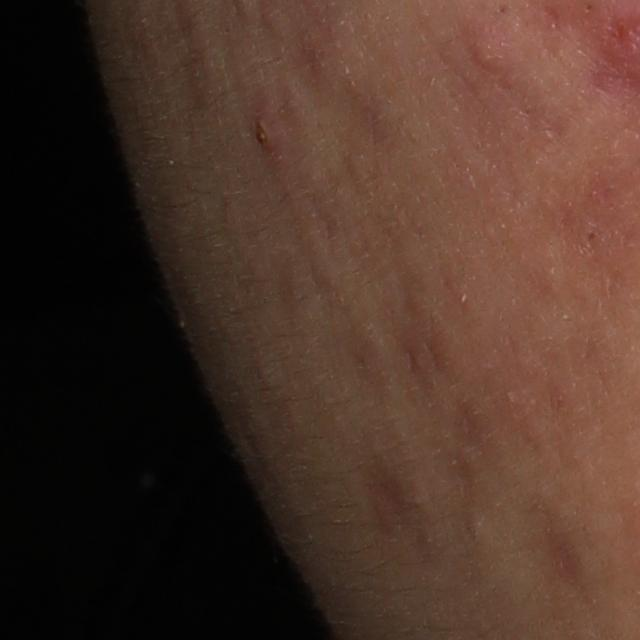comedo: (459, 510, 490, 547), (583, 229, 598, 245)
papule: (462, 26, 514, 74)
